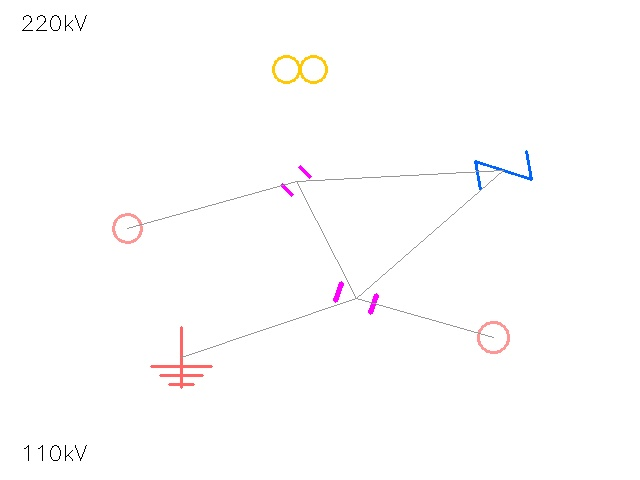capacitor: (325, 267, 387, 329), (275, 160, 317, 202)
circuit_breaker: (474, 141, 532, 199)
feeder_terminal: (463, 307, 523, 367)
ground: (151, 327, 211, 387)
reactor: (99, 200, 155, 256)
transformer_2w: (267, 36, 333, 102)
